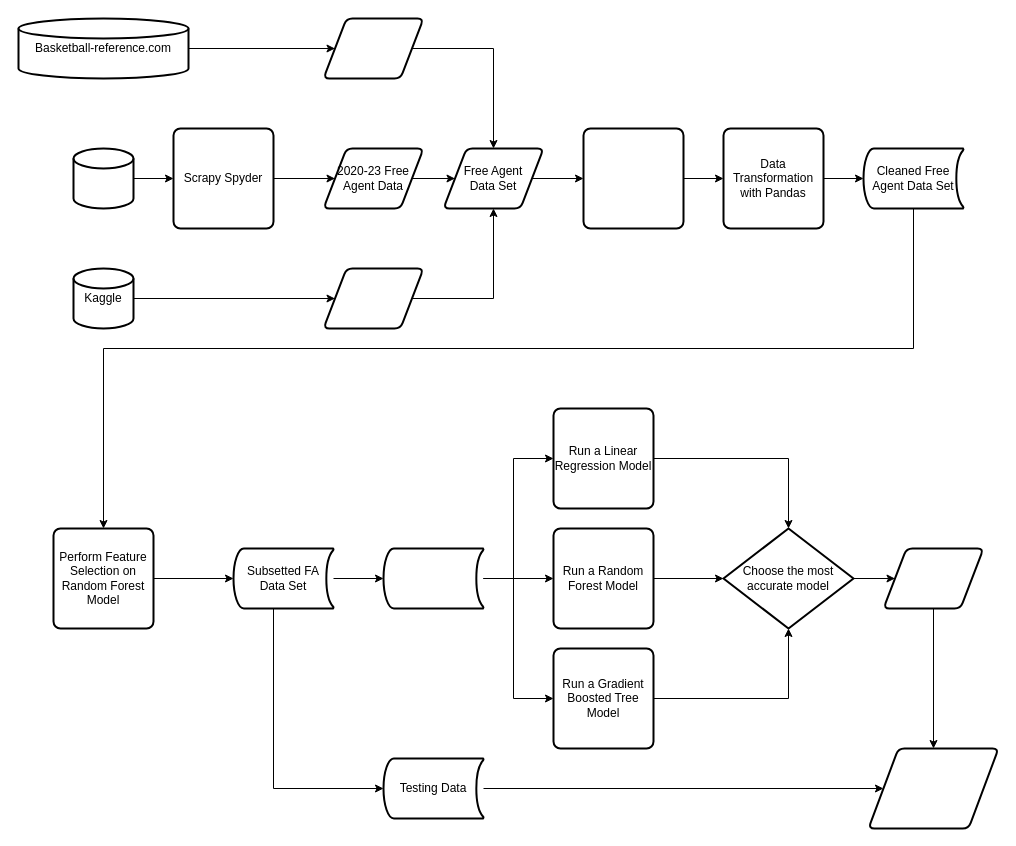
This 1016x846 diagram has some shape labels left out. The box of each missing label's shape, as (x1, y1, x2, y2) in pixels:
2014-19 Free Agent Data: (322, 267, 424, 329)
2020-23 Player Stats: (322, 17, 424, 79)
Best Trained Model: (882, 547, 984, 609)
CBSNews: (72, 147, 134, 209)
Load onto Jupyter Notebook: (582, 127, 684, 229)
Model Predictions: (867, 747, 999, 829)
Training Data: (382, 547, 484, 609)
